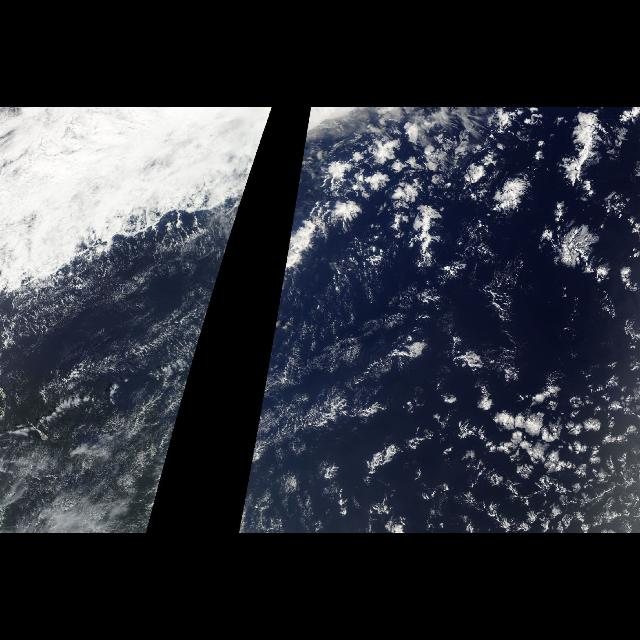Flower: (332, 111, 638, 534)
Sugar: (6, 408, 182, 480), (246, 408, 282, 480)
